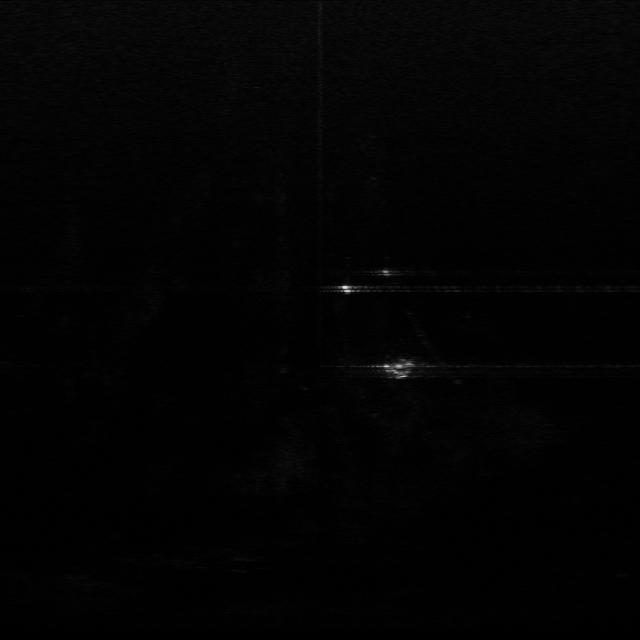rov: (378, 358, 419, 379)
